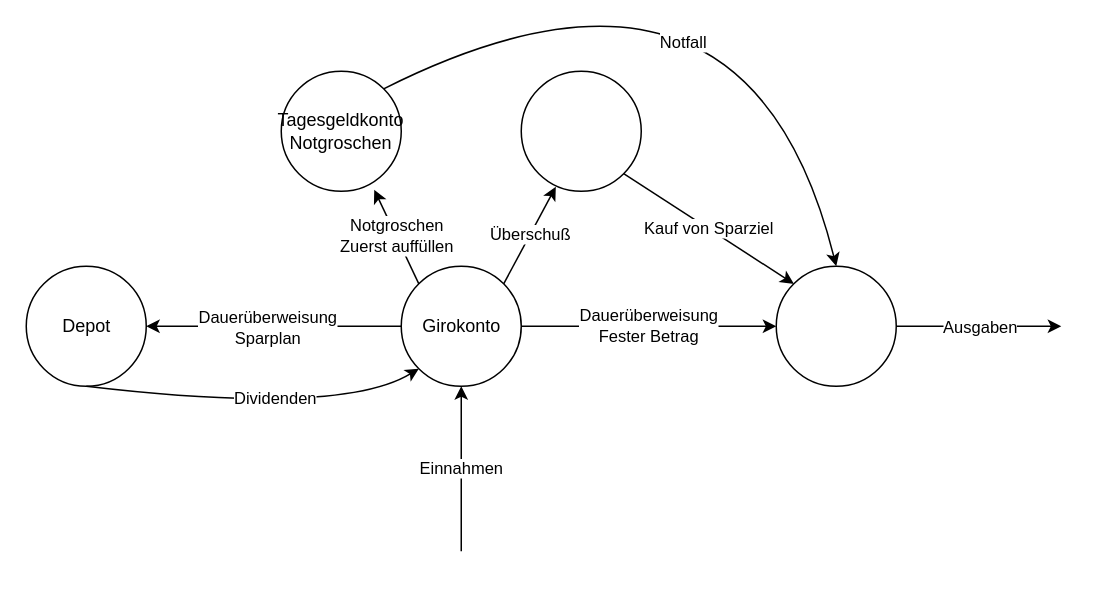
Image size: 1100x590. Some labels were removed from this diagram. Each missing label, with the centre of its shape:
Girokonto "Taschengeld": (835,325)
Tagesgeldkonten Sparen: (580,130)
